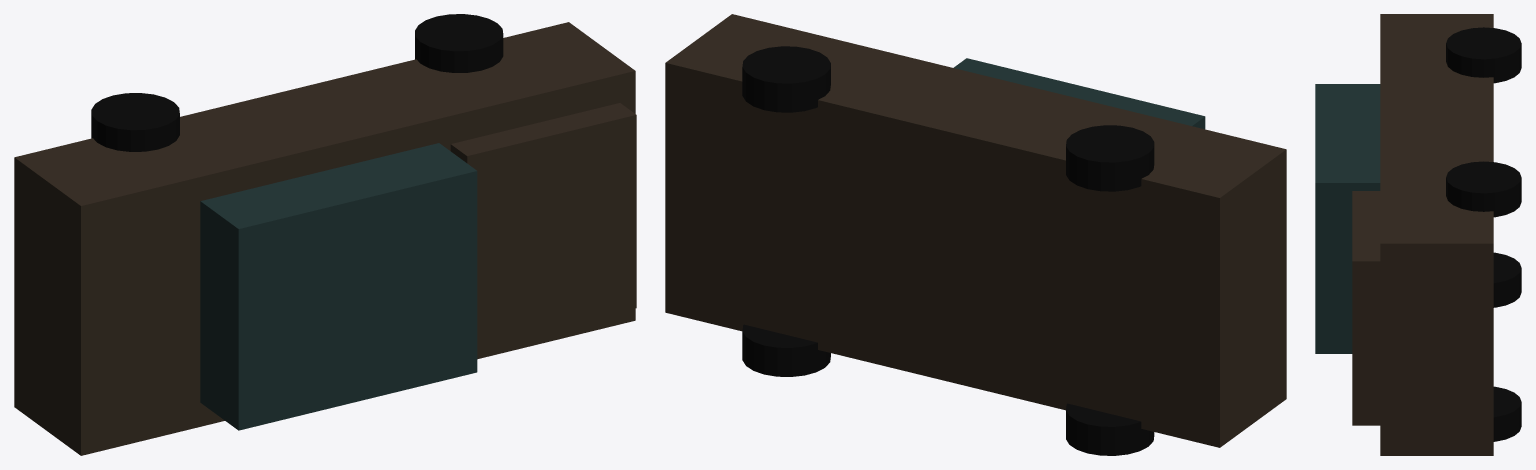
The model's file is ruined_car_A.obj.
3 renders of one model, left to right at view 1: azimuth 30°, elevation 25°; view 2: azimuth 150°, elevation 25°; view 3: azimuth 270°, elevation 25°, orthographic. The views are drawn at different scales.
Visible parts, largest first — view 1: ruined_car_A; view 2: ruined_car_A; view 3: ruined_car_A.
Part boxes in pixels (x1,y1,x2,y2): ruined_car_A: (14, 14, 636, 455); ruined_car_A: (665, 14, 1286, 455); ruined_car_A: (1315, 14, 1521, 455).
Bounding box in the file's own units: 3.6 × 1.82 × 1.37.
